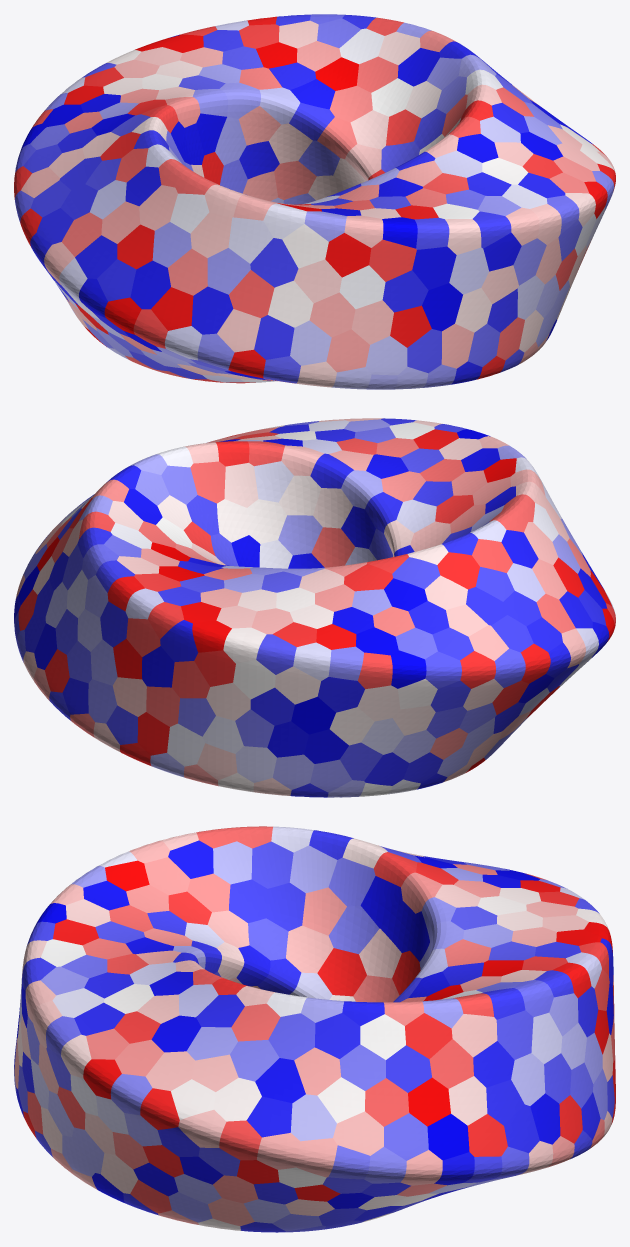
File: Ours_600_mobius1_Iter25_RVD.obj
3 renders of one model, top to bottom at view 1: azimuth 30°, elevation 25°; view 2: azimuth 150°, elevation 25°; view 3: azimuth 270°, elevation 25°, orthographic. The views are drawn at different scales.
Parts seen in each view (by area): view 1: 3D_Object; view 2: 3D_Object; view 3: 3D_Object.
Part boxes in pixels (x1,y1,x2,y2): 3D_Object: (14,14,615,389); 3D_Object: (14,418,615,797); 3D_Object: (14,826,615,1232).
Bounding box in the file's own units: 6.8 × 2.63 × 6.26.
Materials: 1 (1 with a texture image).
